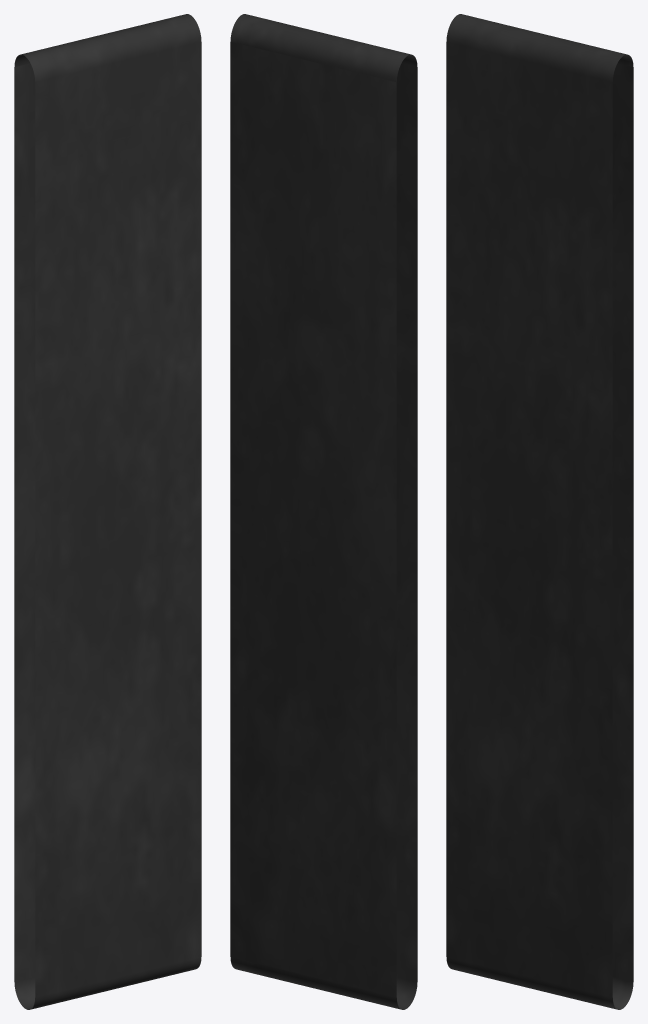
The model's file is conveyor1.dae.
3 views of the same model, side by side, from view 1: azimuth 30°, elevation 25°; view 2: azimuth 150°, elevation 25°; view 3: azimuth 330°, elevation 25° (orthographic).
Parts seen in each view (by area): view 1: Conveyor01Belt_Belt_0.003; view 2: Conveyor01Belt_Belt_0.003; view 3: Conveyor01Belt_Belt_0.003.
Part boxes in pixels (x1,y1,x2,y2): Conveyor01Belt_Belt_0.003: [14, 14, 201, 1009]; Conveyor01Belt_Belt_0.003: [230, 14, 417, 1009]; Conveyor01Belt_Belt_0.003: [446, 14, 633, 1009].
Bounding box in the file's own units: 0.65 × 0.14 × 3.56.
Materials: 1 (1 with a texture image).
